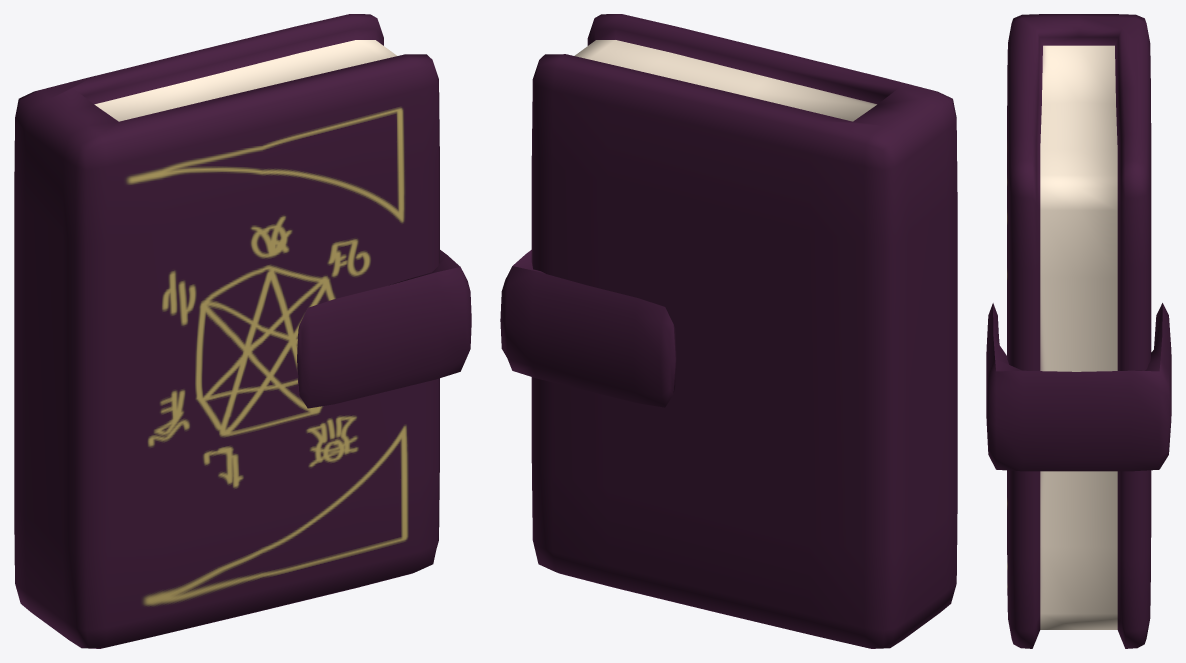
File: Book.fbx
3 views of the same model, side by side, from view 1: azimuth 30°, elevation 25°; view 2: azimuth 150°, elevation 25°; view 3: azimuth 270°, elevation 25° (orthographic). The views are drawn at different scales.
Visible parts, largest first — view 1: Cube; view 2: Cube; view 3: Cube.
Boxes of the visible parts, bbox=[...] form: Cube: bbox=[14, 14, 471, 648]; Cube: bbox=[500, 14, 957, 648]; Cube: bbox=[986, 14, 1171, 648].
Size of the model in its own units: 155 by 200 by 69.25.
1 material, 1 textured.
